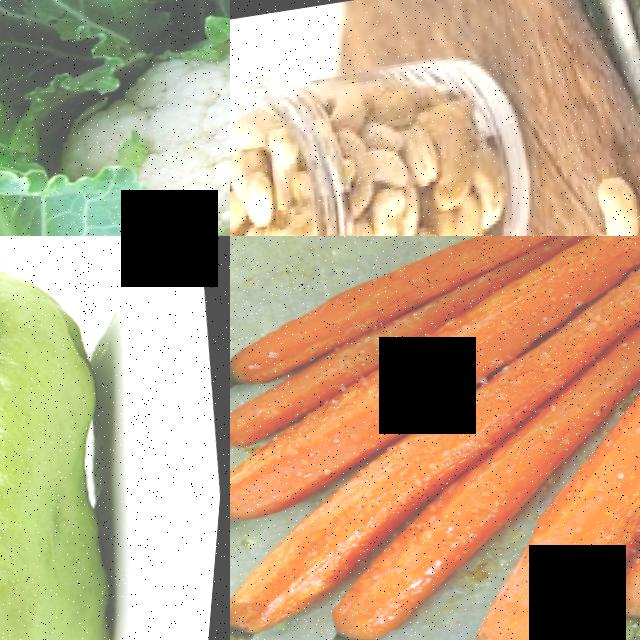carrot: (490, 498, 640, 640), (230, 500, 396, 608), (299, 571, 530, 640), (230, 279, 397, 372), (230, 421, 374, 518)
cashew: (573, 143, 640, 236), (230, 139, 277, 230)
cauliflower: (1, 12, 230, 236)
chayote: (0, 236, 217, 640)
